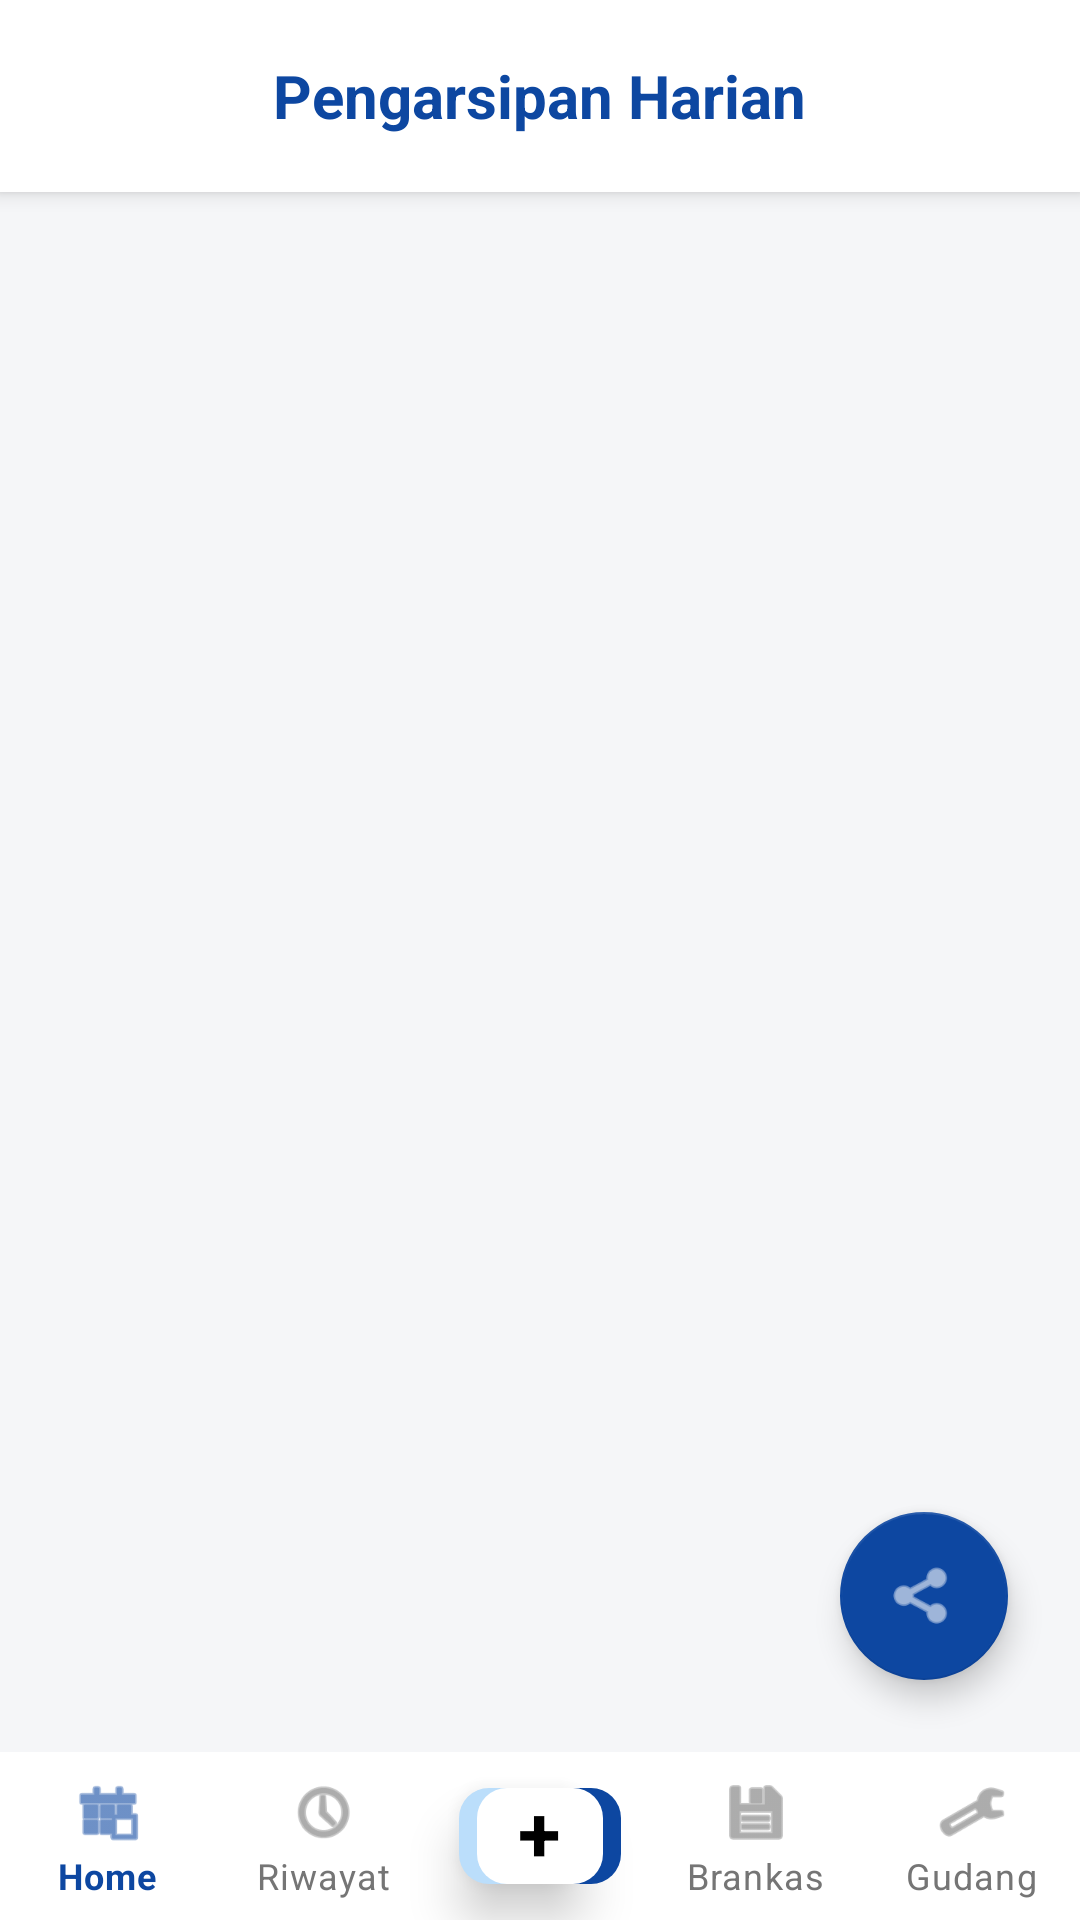

Where to tap for icons on this 1080px×1920px app screen, as point (x, y):
Menu Export: point (924, 1596)
